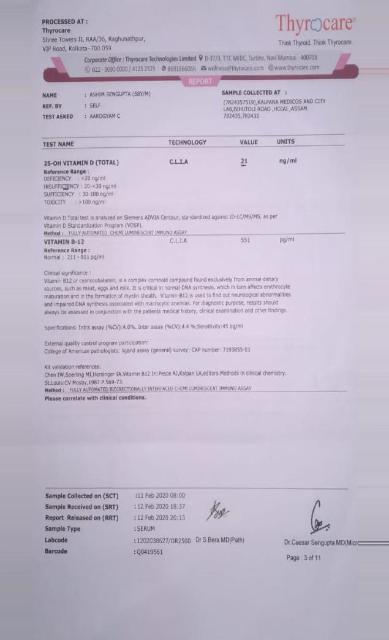Clinical_Conditions: (43, 270, 308, 322)
Name: (89, 91, 153, 99)
Ref_By: (88, 102, 106, 110)
Technology: (166, 155, 194, 168), (168, 237, 194, 250)
Test_Asked: (88, 112, 124, 121)
Test_Name: (42, 158, 127, 208), (43, 236, 111, 266)
Unit: (277, 156, 302, 168), (275, 236, 303, 246)
Value: (236, 235, 259, 247), (238, 155, 254, 170)
